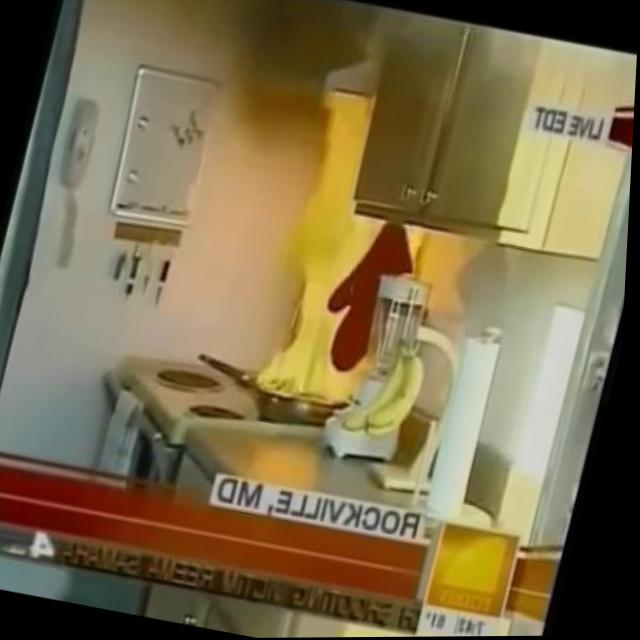fire: (245, 198, 434, 415), (285, 87, 375, 218)
